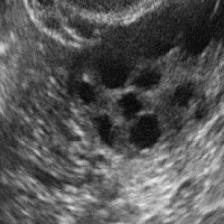pcos: (12, 1, 224, 176)
